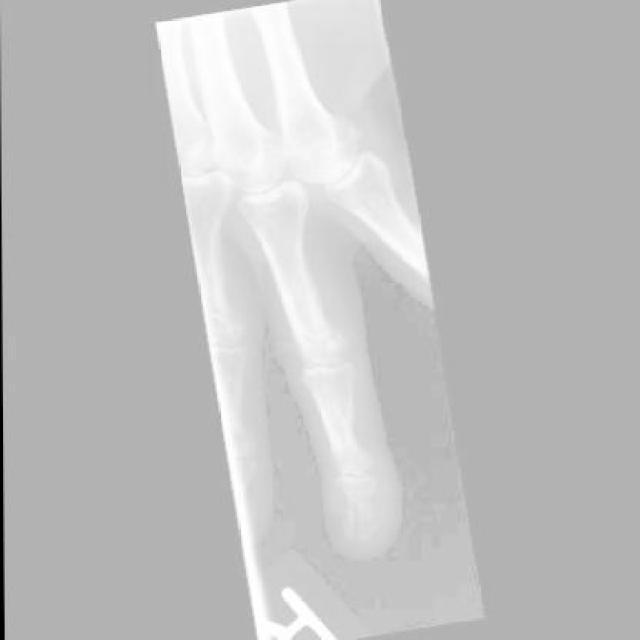Fracture: (336, 489, 387, 551)
